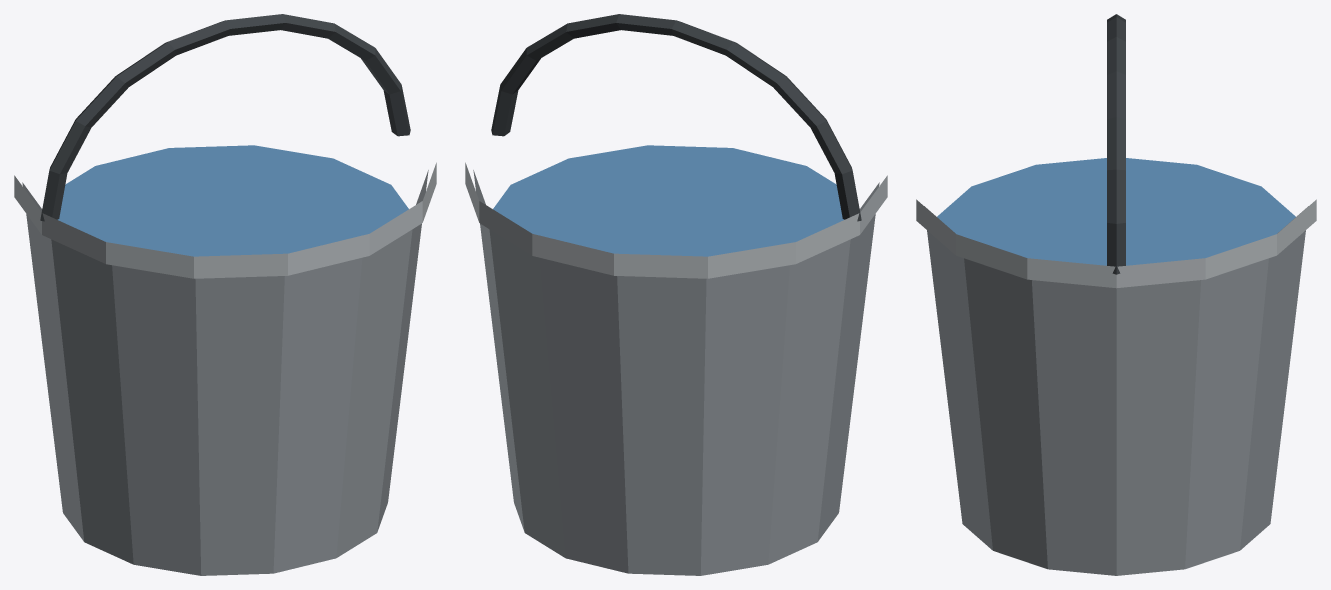
The model's file is uprawa-wiadro.glb.
3 renders of one model, left to right at view 1: azimuth 30°, elevation 25°; view 2: azimuth 150°, elevation 25°; view 3: azimuth 270°, elevation 25°, orthographic. The views are drawn at different scales.
Visible parts, largest first — view 1: uprawa-wiadro-0, uprawa-wiadro-2, uprawa-wiadro-1, uprawa-wiadro-3; view 2: uprawa-wiadro-0, uprawa-wiadro-2, uprawa-wiadro-1, uprawa-wiadro-3; view 3: uprawa-wiadro-0, uprawa-wiadro-2, uprawa-wiadro-1, uprawa-wiadro-3.
Part boxes in pixels (left/top/right/bottom): uprawa-wiadro-0: left=22, top=170, right=428, bottom=575; uprawa-wiadro-2: left=57, top=145, right=408, bottom=256; uprawa-wiadro-1: left=14, top=162, right=436, bottom=278; uprawa-wiadro-3: left=40, top=14, right=410, bottom=221; uprawa-wiadro-0: left=473, top=170, right=879, bottom=575; uprawa-wiadro-2: left=493, top=145, right=844, bottom=256; uprawa-wiadro-1: left=465, top=162, right=887, bottom=278; uprawa-wiadro-3: left=491, top=14, right=861, bottom=221; uprawa-wiadro-0: left=924, top=206, right=1308, bottom=575; uprawa-wiadro-2: left=937, top=158, right=1295, bottom=265; uprawa-wiadro-1: left=916, top=199, right=1316, bottom=288; uprawa-wiadro-3: left=1107, top=14, right=1125, bottom=274.
Bounding box in the file's own units: 1.05 × 1.32 × 1.01.
